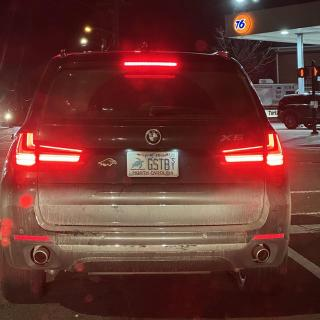license: (127, 152, 180, 179)
